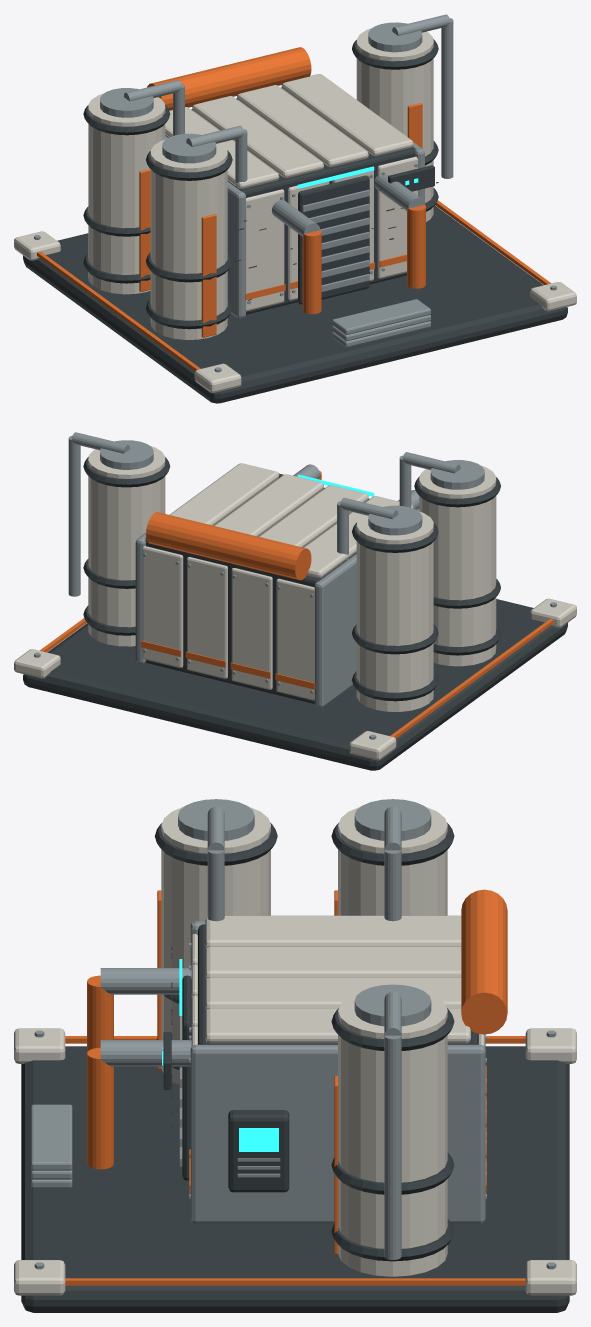
File: SM_PressureSystemsPlant_Body.002.fbx
The picture shows the model from 3 angles, top to bottom: view 1: azimuth 30°, elevation 25°; view 2: azimuth 150°, elevation 25°; view 3: azimuth 270°, elevation 25°; orthographic projection. The views are drawn at different scales.
Parts seen in each view (by area): view 1: SM_PressureSystemsPlant_Body.002; view 2: SM_PressureSystemsPlant_Body.002; view 3: SM_PressureSystemsPlant_Body.002.
Boxes of the visible parts, box(x1,y1,x2,y2) form: SM_PressureSystemsPlant_Body.002: box(14, 14, 576, 403); SM_PressureSystemsPlant_Body.002: box(14, 432, 576, 770); SM_PressureSystemsPlant_Body.002: box(14, 799, 576, 1312).
Bounding box in the file's own units: 503 × 462 × 267.
